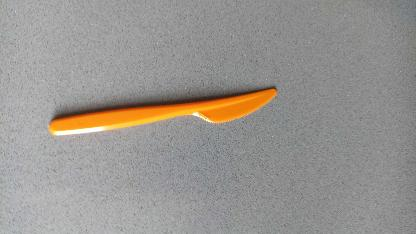Others: (45, 85, 279, 137)
